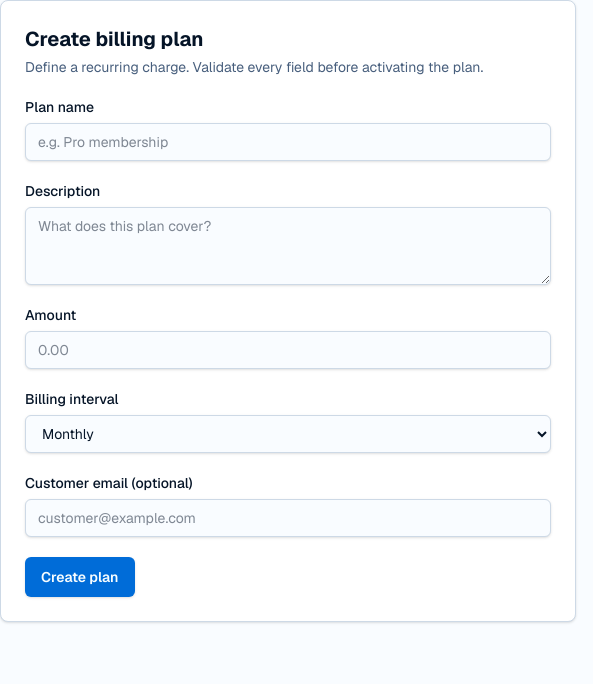
Test: BillingPlanForm › rejects a non-positive amount and an invalid email
The image size is (593, 684).
Type "Starter" into the field labelled "Plan name" at [288, 142], box [25,123,551,161]
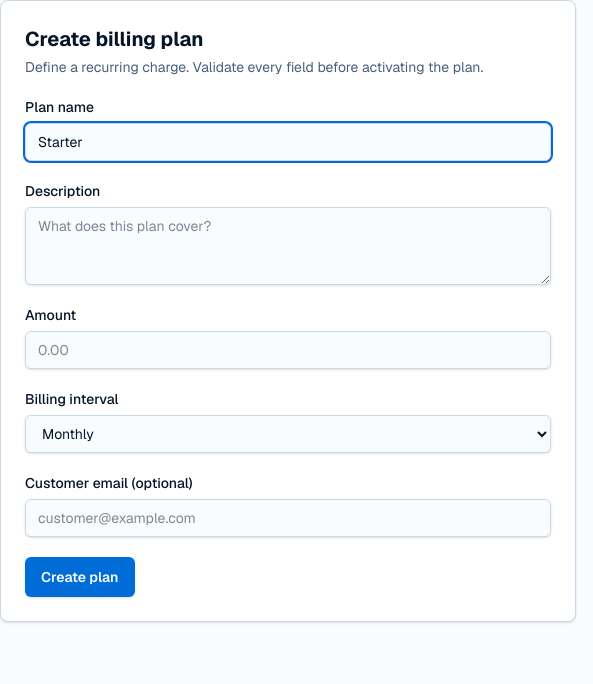
Type "Entry tier" into the text box labelled "Description" at [288, 246], box [25,207,551,285]
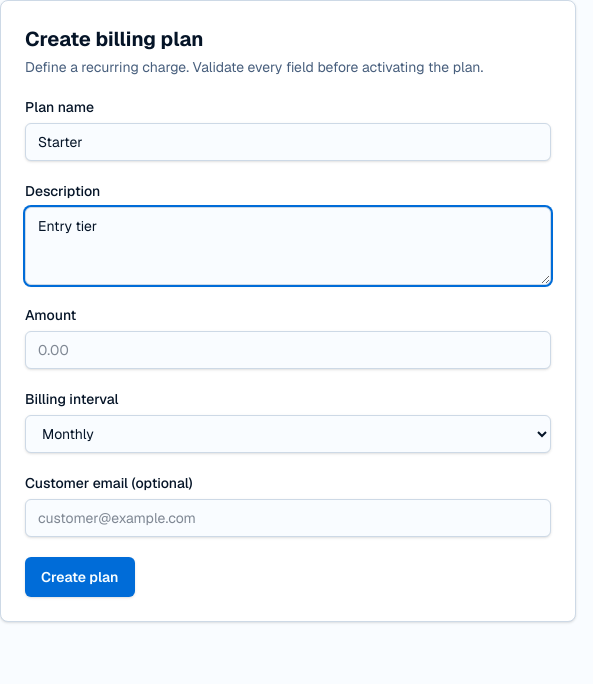
Type "0" into the number field labelled "Amount" at [288, 350], box [25,331,551,369]
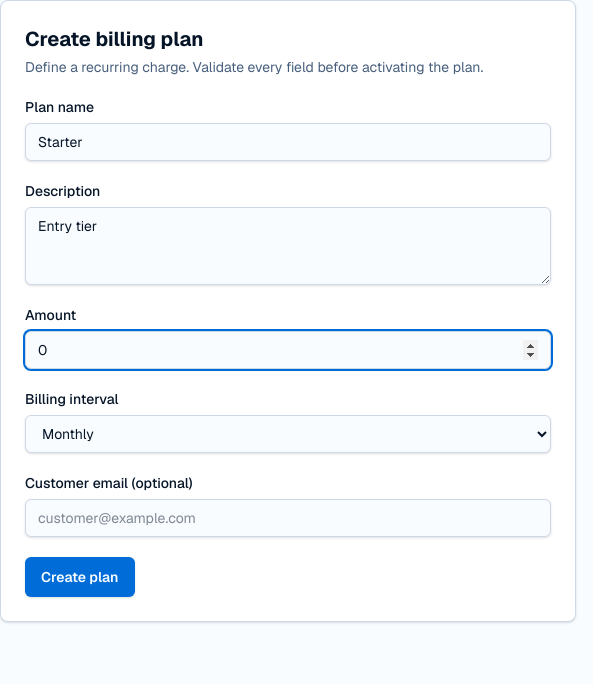
Type "not-an-email" into the field labelled "Customer email (optional)" at [288, 518], box [25,499,551,537]
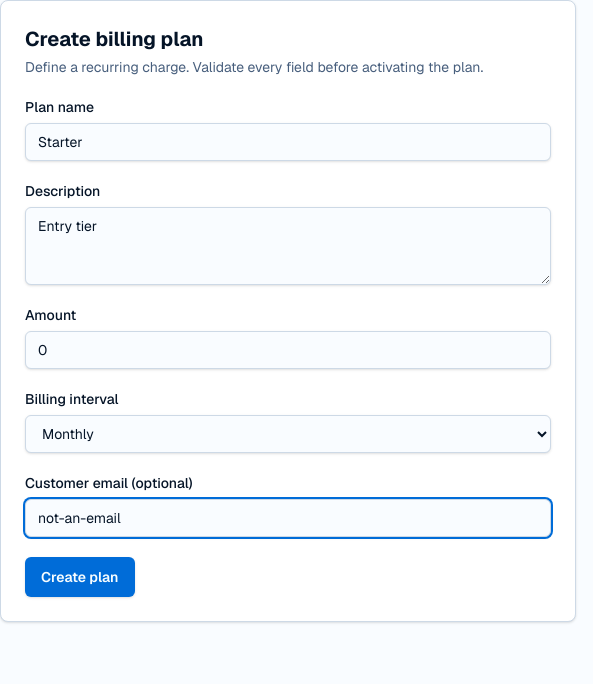
Click the button "Create plan" at [80, 577], box [25,557,134,597]
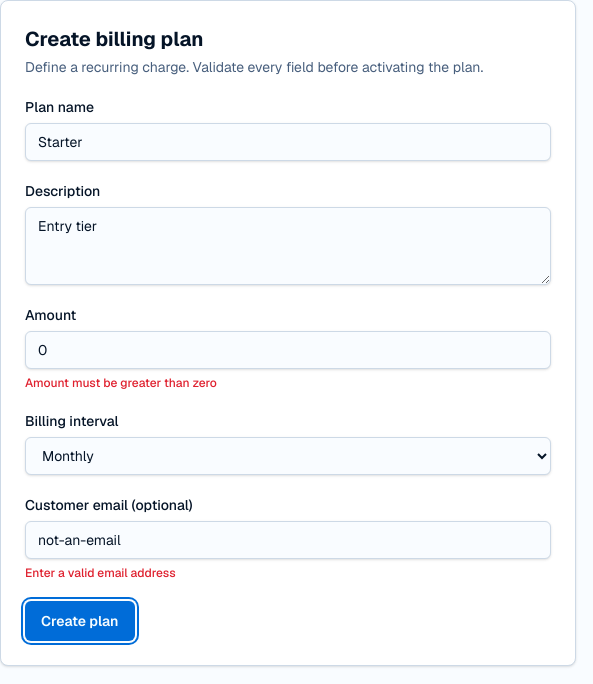
Expected: the text "Amount must be greater than zero" is shown, [25,375,217,391]
Expected: the text "Enter a valid email address" is shown, [25,565,176,581]
